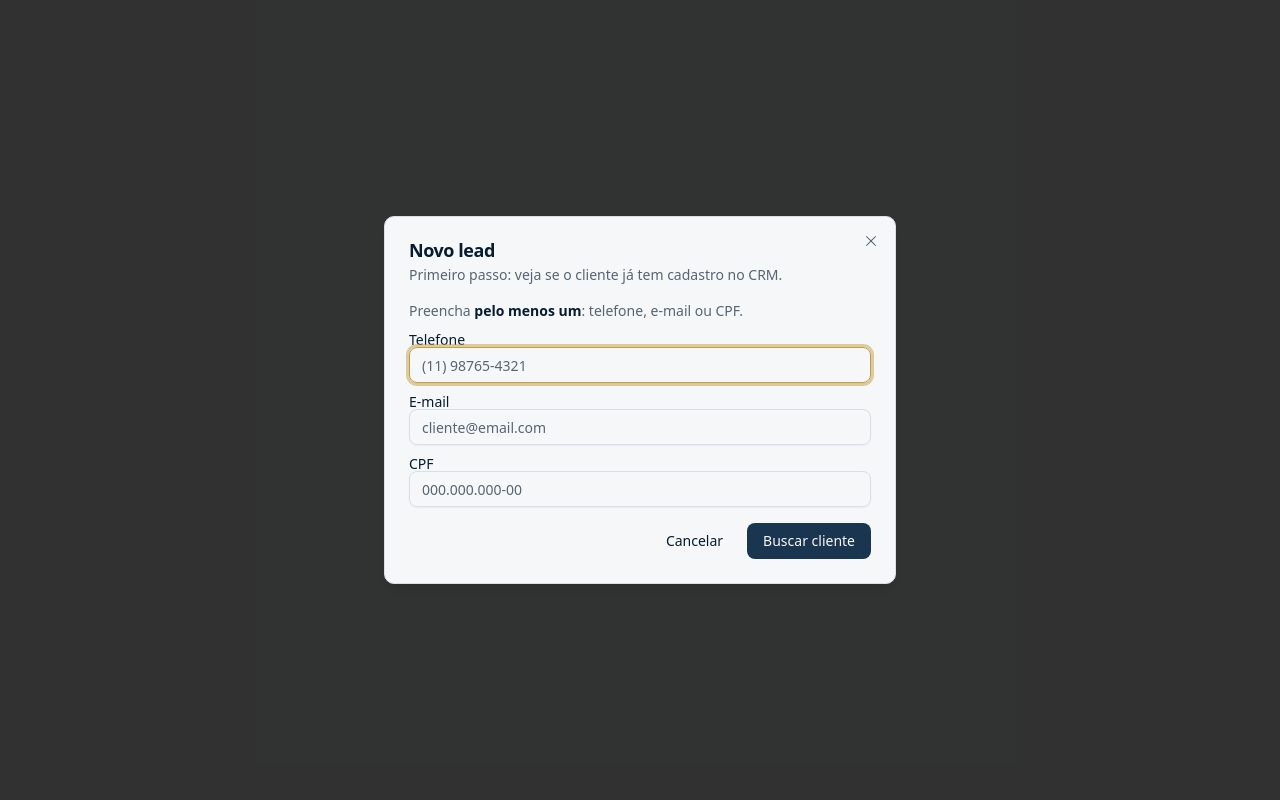
Test: Novo lead do corretor: a busca vem primeiro › bloqueado: não cria e não abre o cadastro
Step 1. Type "11987654321" into the field labelled "Telefone" → {"x": 640, "y": 365}, box [409,347,871,383]
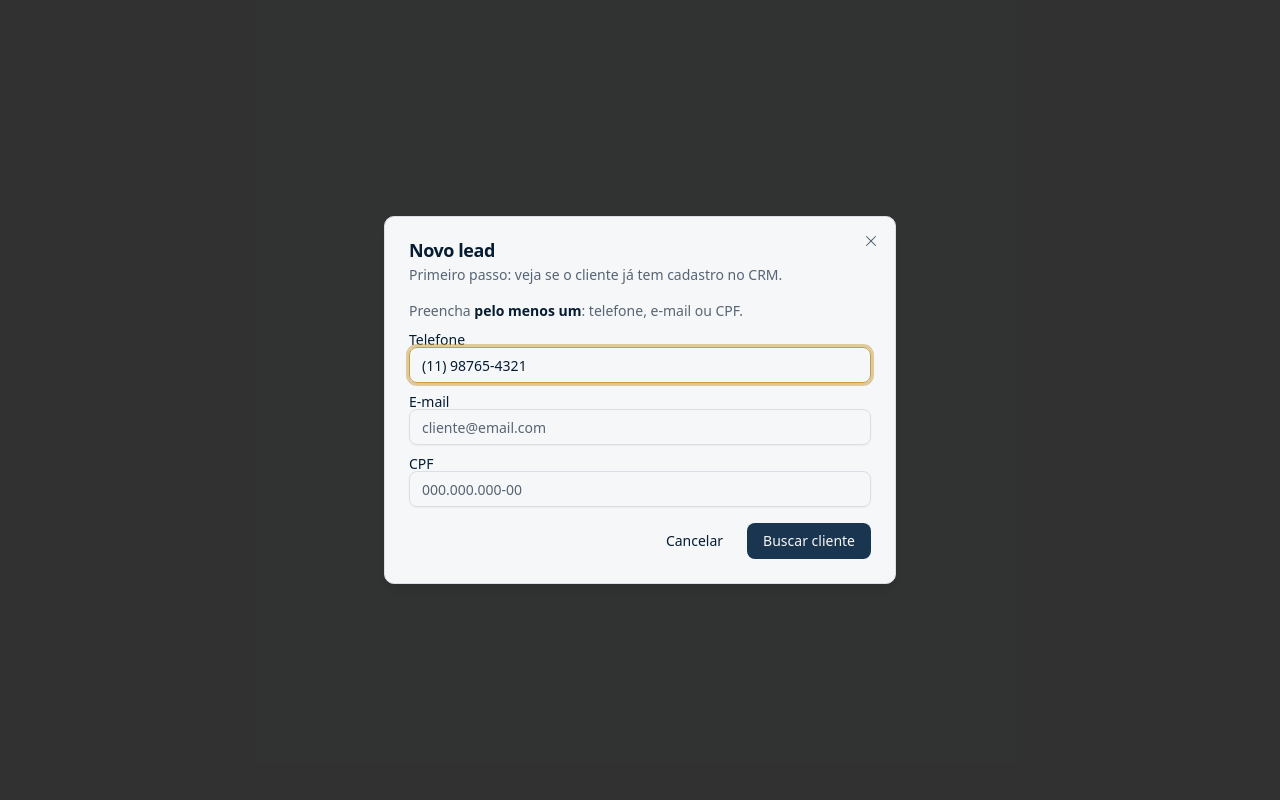
Step 2. Click the button "Buscar cliente" → {"x": 809, "y": 541}, box [747,523,871,559]
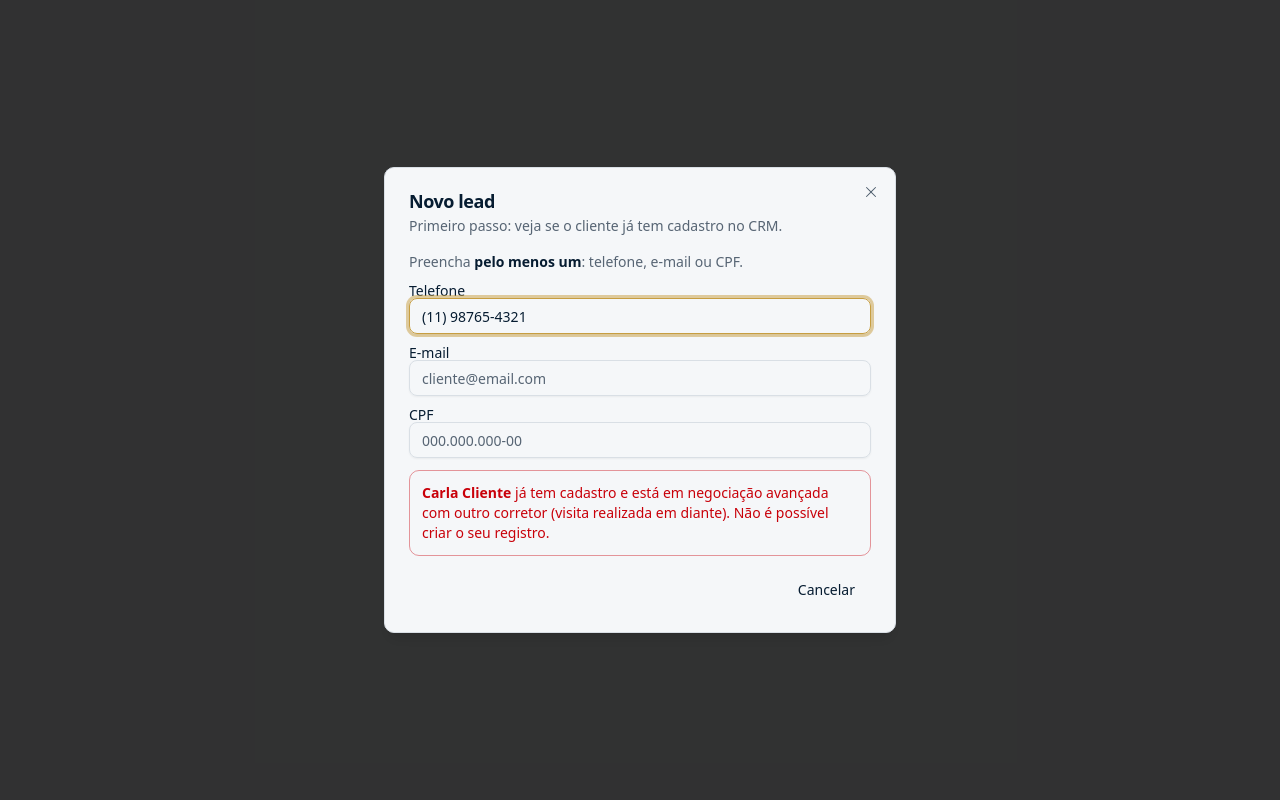
Check: the element with test id "oportunidade-bloqueada" is shown, box [409,470,871,556]
